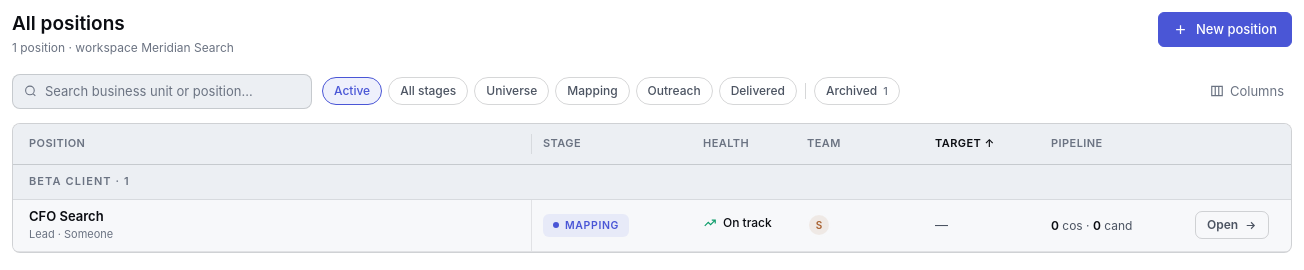
Scenario: ProjectsPage — first use, no results, and a client with nothing shared › keeps an archived position out of every stage, under an Archived chip of its own
expect the text "Old Search" is not shown: met
What coordinates should you click on to do the following:
click the button "All stages"
I would click on:
 (428, 91)
Its box is [388,77,468,105].
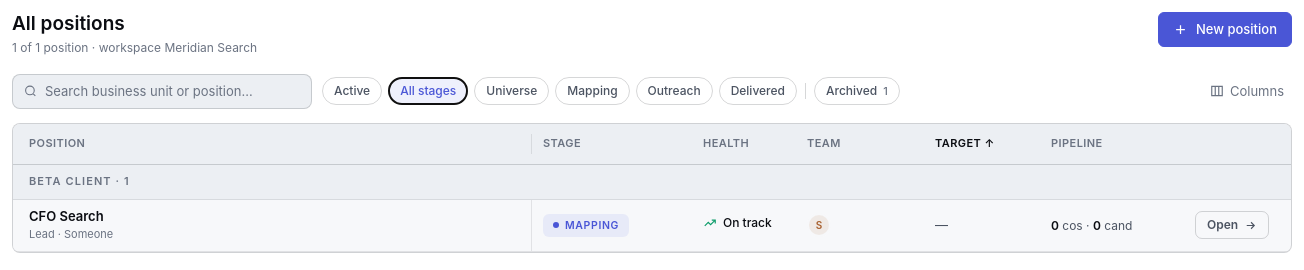
expect the text "Old Search" is not shown: met
What coordinates should you click on to do the following:
click the button "Archived 1"
I would click on:
 (857, 91)
Its box is [814,77,900,105].
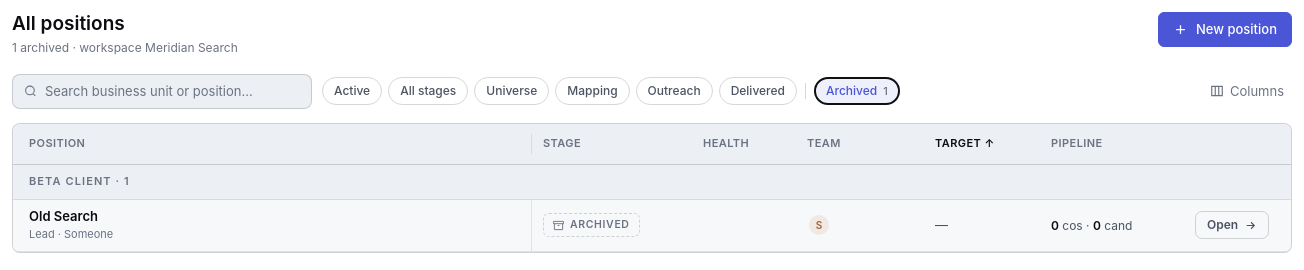
expect the text "CFO Search" is gone: met
